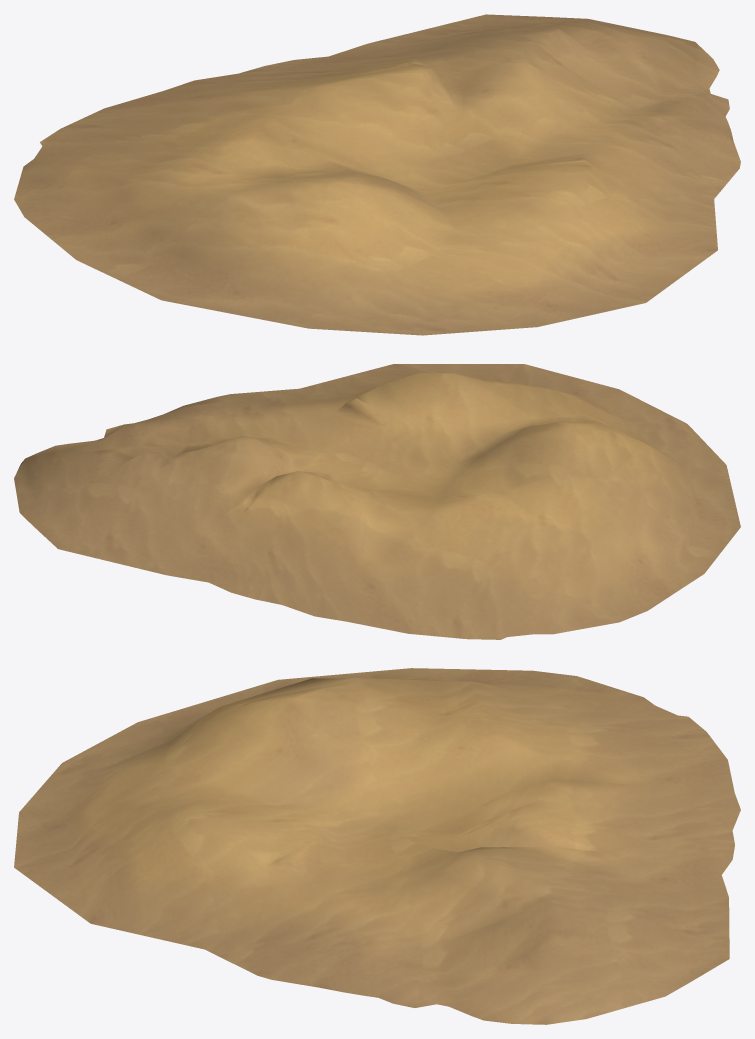
The model's file is Area_05_3.fbx.
The picture shows the model from 3 angles, top to bottom: view 1: azimuth 30°, elevation 25°; view 2: azimuth 150°, elevation 25°; view 3: azimuth 270°, elevation 25°; orthographic projection. The views are drawn at different scales.
Visible parts, largest first — view 1: Area_05_3; view 2: Area_05_3; view 3: Area_05_3.
Part boxes in pixels (x1,y1,x2,y2): Area_05_3: (14, 14, 740, 335); Area_05_3: (14, 364, 740, 639); Area_05_3: (14, 668, 740, 1024).
Bounding box in the file's own units: 5853 × 574 × 5040.
1 material, 1 textured.
